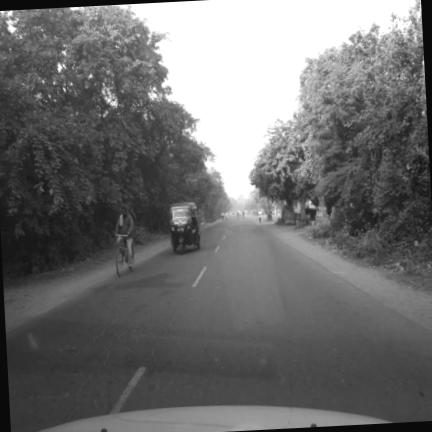Road: (6, 218, 431, 431)
